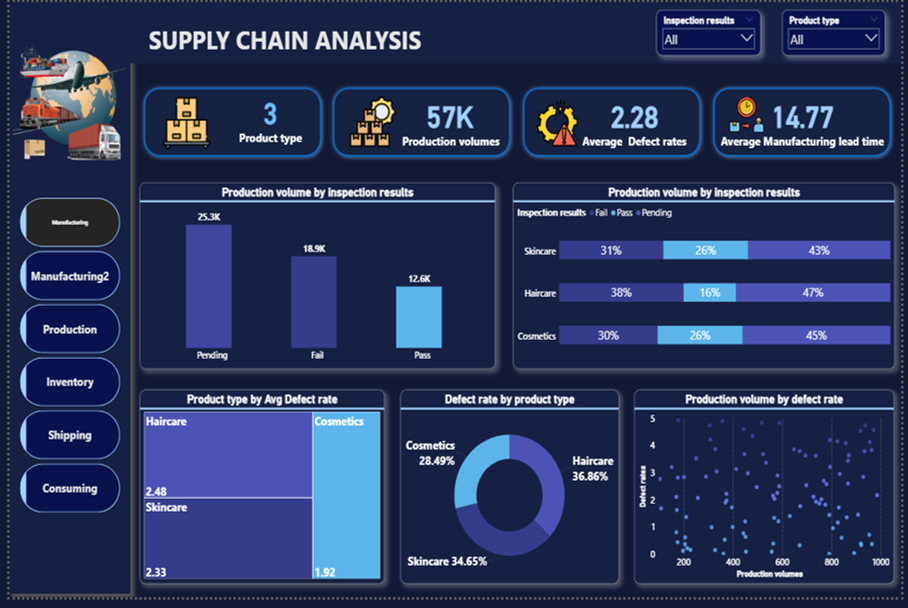

This screenshot's page, from the dashboard's own definition file:
{"tool":"powerbi","page":{"name":"  Manufacturing","canvas":[2300,1400],"ordinal":0},"visuals":[{"type":"shape","box":[0,0,312,1392],"z":0},{"type":"shape","box":[308,0,1992,144],"z":1000},{"type":"textbox","box":[355.8,40.9,1945.8,132.2],"z":2000},{"type":"image","box":[3.1,40.9,311.7,384.1],"z":3000},{"type":"shape","box":[337.4,192.1,478.6,182.6],"z":4000},{"type":"card","title":"total shipping costs","fields":{"Values":["Count(supply_chain_data.Product type)"]},"box":[456.5,192.1,431.3,157.4],"z":5000},{"type":"textbox","box":[432,312,240,72],"z":6000},{"type":"columnChart","title":"Production volume by inspection results","fields":{"Category":["supply_chain_data.Inspection results"],"Y":["Sum(supply_chain_data.Production volumes)"]},"box":[336.8,424.5,917,438.7],"z":7000},{"type":"slicer","fields":{"Values":["supply_chain_data.Inspection results"]},"box":[1669.8,17,268.9,107.5],"z":8000},{"type":"pageNavigator","box":[28.3,459.7,258.2,743],"z":9000},{"type":"shape","box":[1804.6,192.1,478.6,182.6],"z":10000},{"type":"shape","box":[1316.6,192.1,478.6,182.6],"z":11000},{"type":"shape","box":[825.4,192.1,478.6,182.6],"z":12000},{"type":"card","fields":{"Values":["Avg(supply_chain_data.Manufacturing lead time)"]},"box":[1829.3,182.6,431.3,192.1],"z":13000},{"type":"card","fields":{"Values":["Avg(supply_chain_data.Defect rates)"]},"box":[1397.9,182.6,431.3,192.1],"z":14000},{"type":"card","fields":{"Values":["Sum(supply_chain_data.Production volumes)"]},"box":[966.6,182.6,336.9,192.1],"z":15000},{"type":"image","box":[384.1,217.2,144.8,132.2],"z":16000},{"type":"image","box":[862.7,214.1,148,132.2],"z":17000},{"type":"hundredPercentStackedBarChart","title":"Production volume by inspection results","fields":{"Y":["Sum(supply_chain_data.Production volumes)"],"Series":["supply_chain_data.Inspection results"],"Category":["supply_chain_data.product_type"]},"box":[1299.1,424.5,984.9,438.7],"z":18000},{"type":"donutChart","title":" Defect rate by product type","fields":{"Y":["Avg(supply_chain_data.Defect rates)"],"Category":["supply_chain_data.product_type"]},"box":[1010.4,911.3,563.2,455.7],"z":19000},{"type":"image","box":[1333.3,223.3,160,120],"z":20000},{"type":"image","box":[1830,213.3,143.3,103.3],"z":21000},{"type":"treemap","title":"Product type by Avg Defect rate","fields":{"Group":["supply_chain_data.product_type"],"Values":["Avg(supply_chain_data.Defect rates)"]},"box":[336.8,911.3,631.1,455.7],"z":22000},{"type":"slicer","fields":{"Values":["supply_chain_data.Product type"]},"box":[1992.5,17,266,107.5],"z":23000},{"type":"scatterChart","title":"Production volume by defect rate","fields":{"X":["supply_chain_data.Production volumes"],"Y":["supply_chain_data.Defect rates"]},"box":[1613.2,911.3,670.8,455.7],"z":24000}]}

Visuals, with their boxes on the page's 2300x1400 design canvas (x1, y1, x2, y2). These are canvas units, not pixel positions in the 908x608 screenshot, which may show the page scaled, cropped or inside an application window:
shape: {"x1": 0, "y1": 0, "x2": 312, "y2": 1392}
shape: {"x1": 308, "y1": 0, "x2": 2300, "y2": 144}
textbox: {"x1": 356, "y1": 41, "x2": 2302, "y2": 173}
image: {"x1": 3, "y1": 41, "x2": 315, "y2": 425}
shape: {"x1": 337, "y1": 192, "x2": 816, "y2": 375}
"total shipping costs" card: {"x1": 456, "y1": 192, "x2": 888, "y2": 350}
textbox: {"x1": 432, "y1": 312, "x2": 672, "y2": 384}
"Production volume by inspection results" columnChart: {"x1": 337, "y1": 424, "x2": 1254, "y2": 863}
slicer - supply_chain_data.Inspection results: {"x1": 1670, "y1": 17, "x2": 1939, "y2": 124}
pageNavigator: {"x1": 28, "y1": 460, "x2": 286, "y2": 1203}
shape: {"x1": 1805, "y1": 192, "x2": 2283, "y2": 375}
shape: {"x1": 1317, "y1": 192, "x2": 1795, "y2": 375}
shape: {"x1": 825, "y1": 192, "x2": 1304, "y2": 375}
card - Avg(supply_chain_data.Manufacturing lead time): {"x1": 1829, "y1": 183, "x2": 2261, "y2": 375}
card - Avg(supply_chain_data.Defect rates): {"x1": 1398, "y1": 183, "x2": 1829, "y2": 375}
card - Sum(supply_chain_data.Production volumes): {"x1": 967, "y1": 183, "x2": 1304, "y2": 375}
image: {"x1": 384, "y1": 217, "x2": 529, "y2": 349}
image: {"x1": 863, "y1": 214, "x2": 1011, "y2": 346}
"Production volume by inspection results" hundredPercentStackedBarChart: {"x1": 1299, "y1": 424, "x2": 2284, "y2": 863}
" Defect rate by product type" donutChart: {"x1": 1010, "y1": 911, "x2": 1574, "y2": 1367}
image: {"x1": 1333, "y1": 223, "x2": 1493, "y2": 343}
image: {"x1": 1830, "y1": 213, "x2": 1973, "y2": 317}
"Product type by Avg Defect rate" treemap: {"x1": 337, "y1": 911, "x2": 968, "y2": 1367}
slicer - supply_chain_data.Product type: {"x1": 1992, "y1": 17, "x2": 2258, "y2": 124}
"Production volume by defect rate" scatterChart: {"x1": 1613, "y1": 911, "x2": 2284, "y2": 1367}
